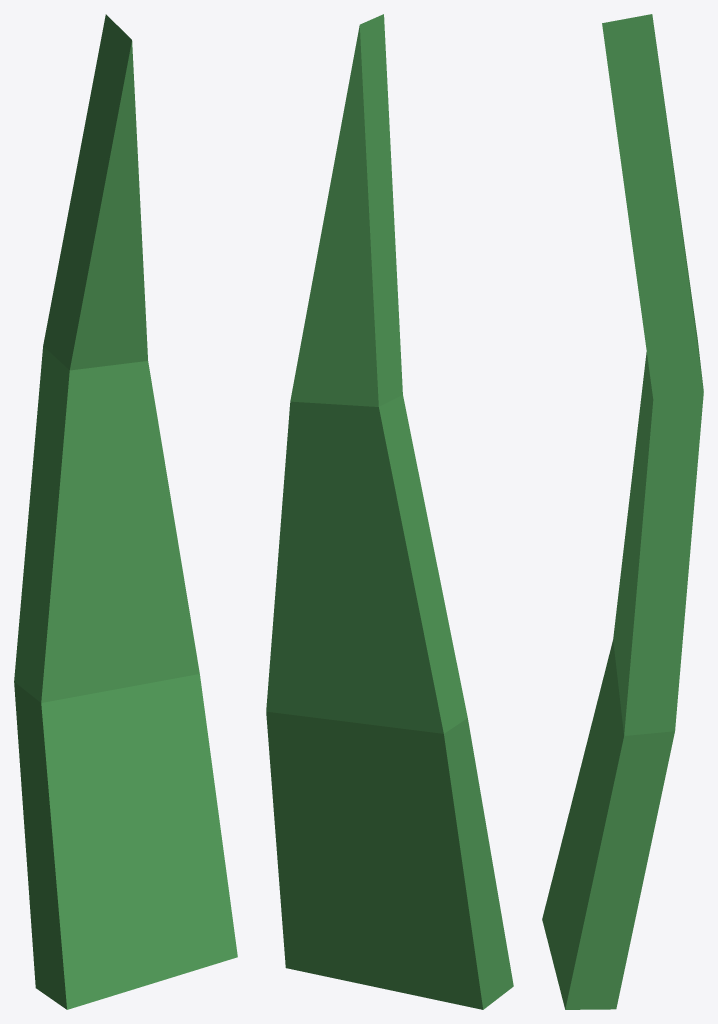
Rendered from grass_2.FBX.
3 views of the same model, side by side, from view 1: azimuth 30°, elevation 25°; view 2: azimuth 150°, elevation 25°; view 3: azimuth 270°, elevation 25° (orthographic). The views are drawn at different scales.
Visible parts, largest first — view 1: grass_2; view 2: grass_2; view 3: grass_2.
Boxes of the visible parts, box(x1,y1,x2,y2) form: grass_2: box(14, 14, 237, 1009); grass_2: box(266, 14, 513, 1009); grass_2: box(542, 14, 703, 1009).
Bounding box in the file's own units: 7.27 × 35.41 × 5.45.
